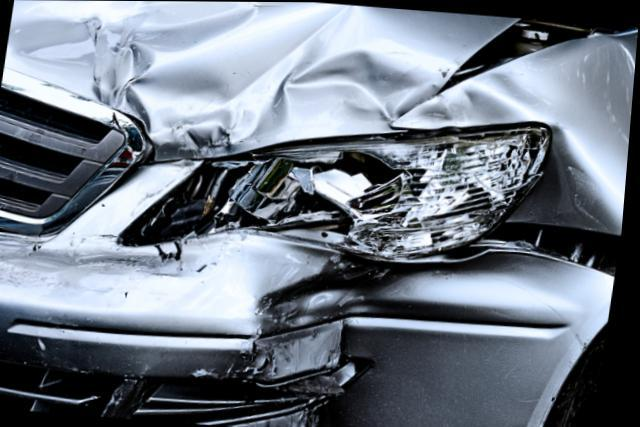dent: (7, 0, 443, 158), (257, 256, 403, 427), (517, 124, 625, 231), (400, 86, 527, 127)
dislocated part: (251, 212, 625, 427)
lamp broken: (120, 119, 557, 256)
